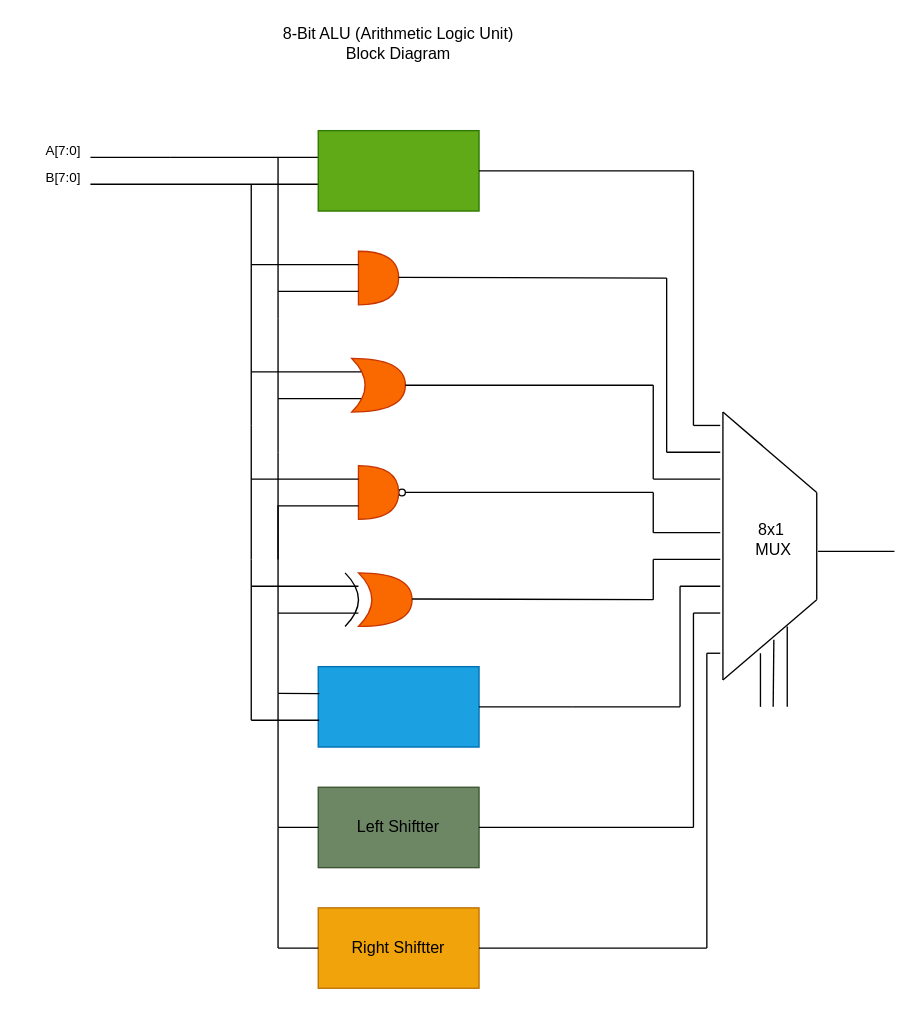
Some shapes in this 919 by 1012 pixel diagram are drawn without their labels. Each missing label, with the centre of its shape:
Adder Block: (x=398, y=170)
Substractor Block: (x=398, y=706)
